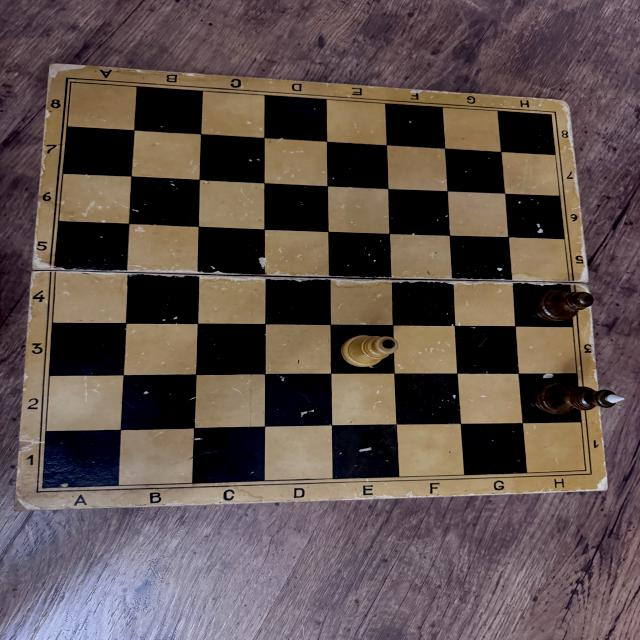black-king: (530, 380, 629, 415)
black-pawn: (533, 287, 596, 321)
white-king: (341, 333, 399, 367)
